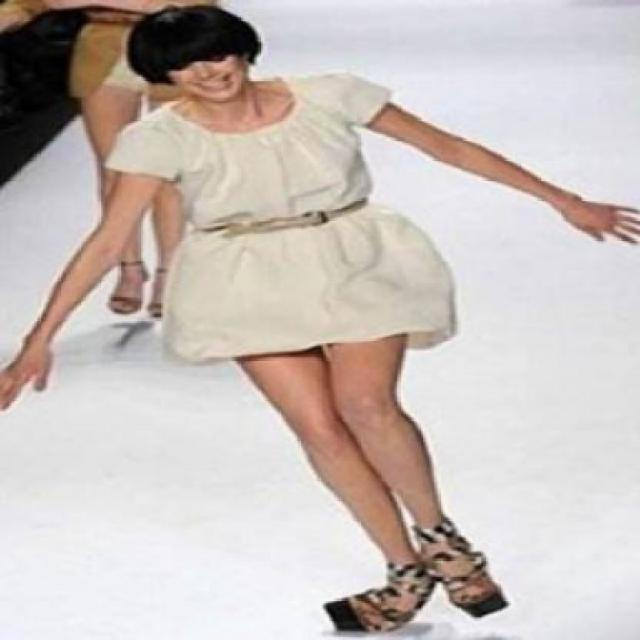fall: (0, 8, 638, 640)
